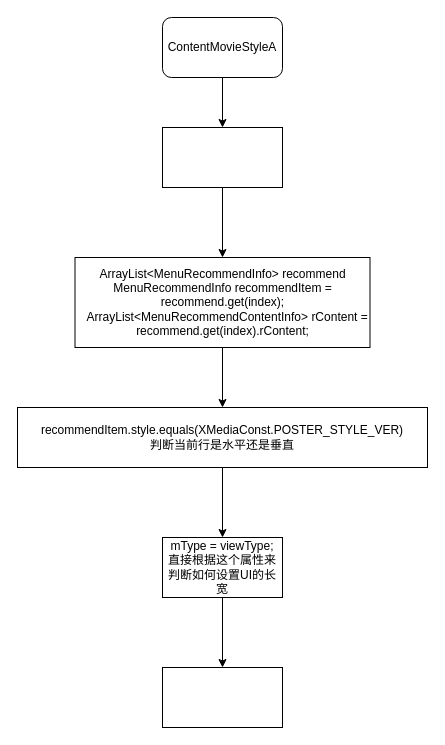
The diagram is 445 pixels wide and 745 high, and some of its shapes have lost their labels. The centre of each missing label's shape, as x and y in pixels:
"updateView" goes at pixel 222 157.
"根据该属性可以设置UI长宽与默认图片大小" goes at pixel 222 697.
